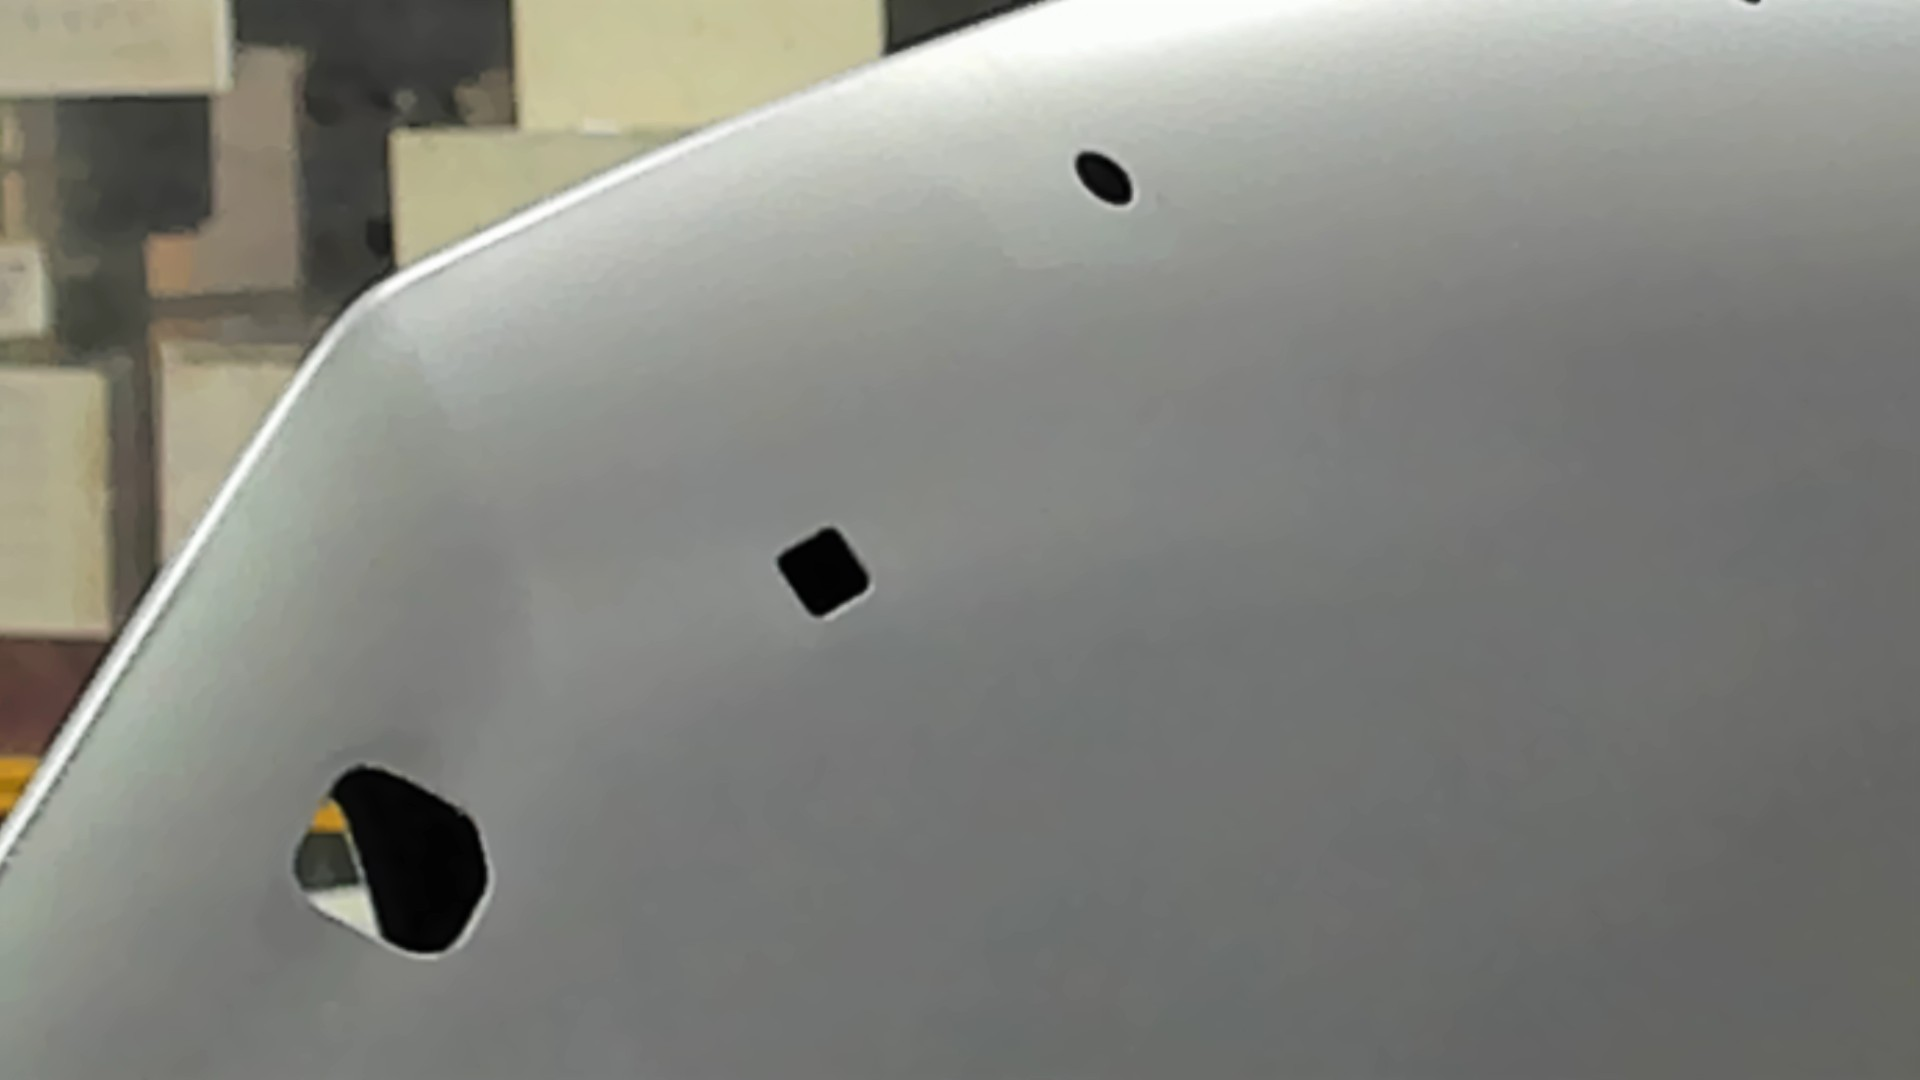chico: (1072, 145, 1139, 208)
grande: (290, 762, 498, 963)
mediano: (771, 517, 874, 622)
